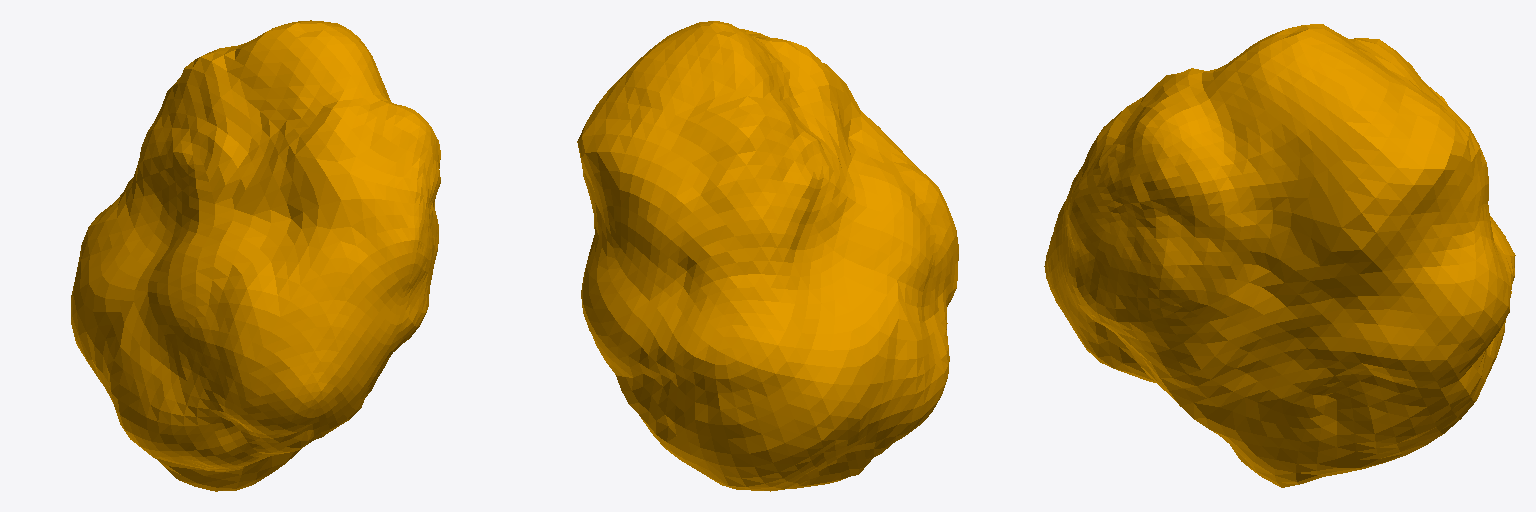
URDF robot description (rock):
<?xml version="1.0" ?>
<robot name="rock">
  <link name="rock">
    <inertial>
      <mass value="0.298"/>
      <origin rpy="0 0 0" xyz="0 0 0"/>
      <inertia ixx="0.000298" ixy="0" ixz="0" iyy="0.000298" iyz="0" izz="0.000298"/>
    </inertial>
    <collision name="rock_collision">
      <origin rpy="0 0 0" xyz="0 0 0"/>
      <geometry>
        <mesh filename="package://rocks/visual/202.dae" scale="1 1 1"/>
      </geometry>
    </collision>
    <visual name="rock_visual">
      <origin rpy="0 0 0" xyz="0 0 0"/>
      <geometry>
        <mesh filename="package://rocks/visual/202.dae" scale="1 1 1"/>
      </geometry>
    </visual>
  </link>
</robot>

--- Render facts (derived) ---
The picture shows the robot from 3 angles, left to right: view 1: azimuth 30°, elevation 25°; view 2: azimuth 150°, elevation 25°; view 3: azimuth 270°, elevation 25°; orthographic projection.
Robot: rock — 1 links, 0 joints (none); root link rock; default pose: every joint at zero.
Links seen in each view (by area): view 1: rock; view 2: rock; view 3: rock.
Link boxes in pixels (left/top/right/bottom): rock: left=71, top=20, right=440, bottom=491; rock: left=577, top=21, right=958, bottom=491; rock: left=1044, top=24, right=1515, bottom=487.
Size in the robot's own frame: 0.0673 by 0.0827 by 0.0945 metres.
Meshes: 1 distinct files referenced, 1 mesh visuals loaded (1 Collada DAE).